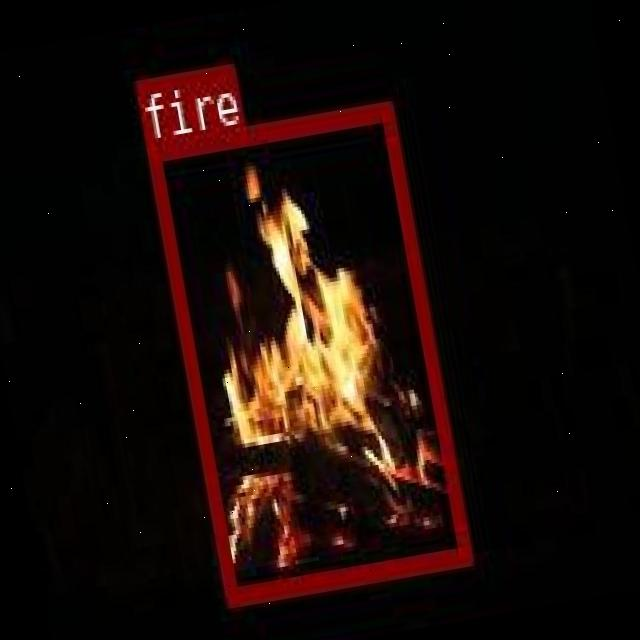fire: (144, 100, 468, 603)
